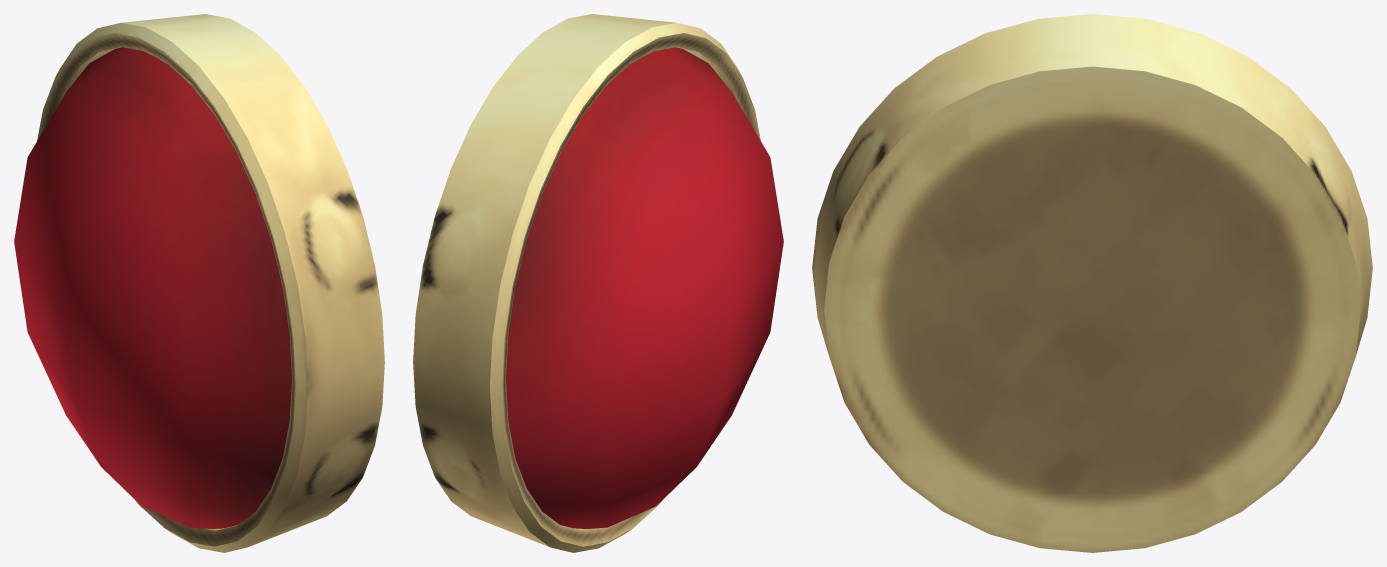
The model's file is SM_Gem_D_Gold.fbx.
3 views of the same model, side by side, from view 1: azimuth 30°, elevation 25°; view 2: azimuth 150°, elevation 25°; view 3: azimuth 270°, elevation 25° (orthographic). The views are drawn at different scales.
Parts seen in each view (by area): view 1: SM_Gem_D_Gold_LOD0; view 2: SM_Gem_D_Gold_LOD0; view 3: SM_Gem_D_Gold_LOD0.
Boxes of the visible parts, x1,y1,x2,y2 form: SM_Gem_D_Gold_LOD0: (14,14,384,552); SM_Gem_D_Gold_LOD0: (413,14,783,552); SM_Gem_D_Gold_LOD0: (812,14,1372,552).
Size of the model in its own units: 1.35 by 3.32 by 3.32.
Materials: 1 (1 with a texture image).
